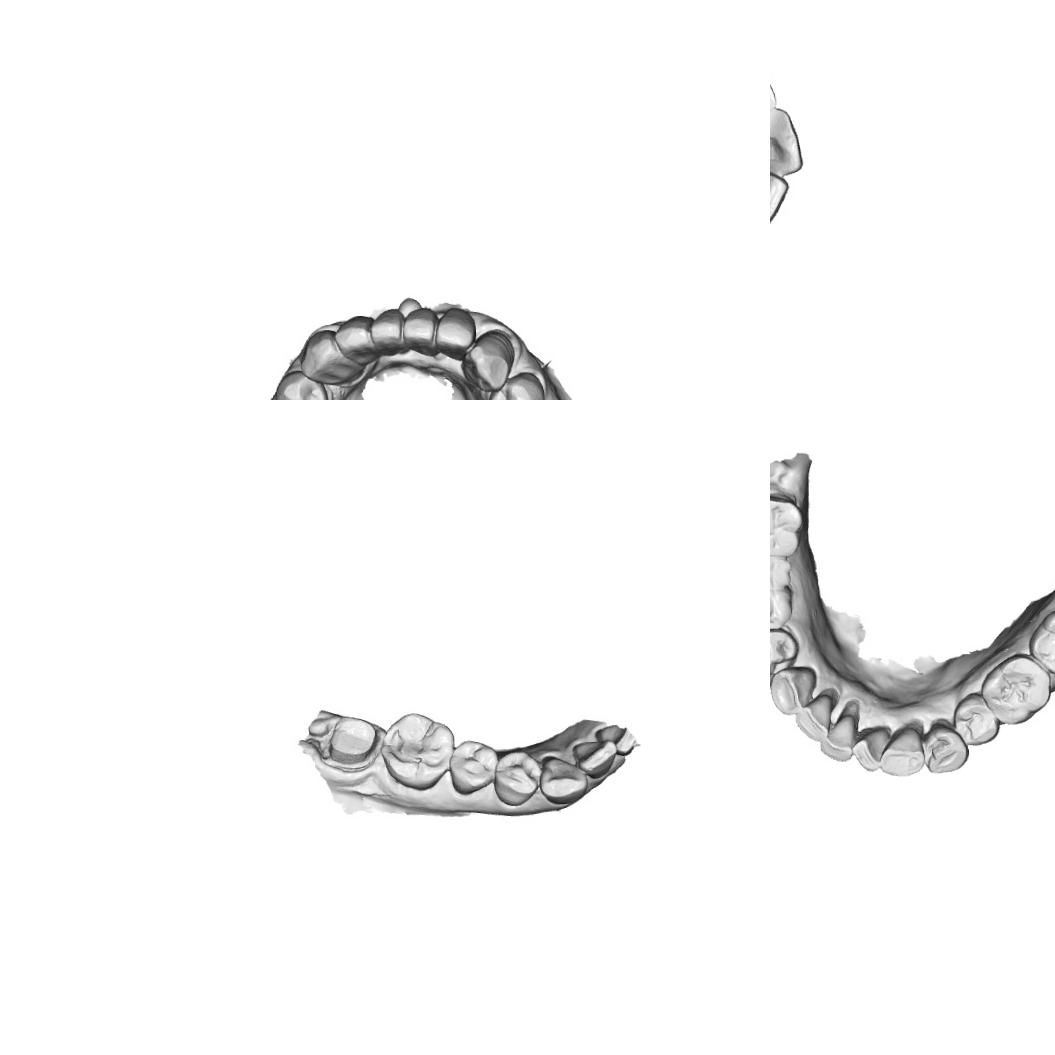canine: (458, 328, 516, 393), (296, 327, 352, 392), (877, 723, 926, 780), (538, 752, 589, 805), (770, 664, 818, 716)
crown: (317, 710, 380, 772)
incisor: (432, 305, 478, 359), (770, 105, 804, 176), (368, 305, 408, 361), (794, 693, 836, 743), (398, 307, 438, 359), (334, 314, 376, 361), (571, 739, 619, 780), (818, 712, 856, 762), (851, 726, 890, 773), (770, 167, 792, 237)
molar: (378, 709, 458, 792), (980, 651, 1052, 726), (770, 491, 801, 560), (1026, 605, 1055, 678), (770, 555, 793, 591)
premolar: (448, 738, 500, 796), (490, 748, 540, 808), (951, 690, 1002, 748), (922, 720, 970, 775), (272, 366, 332, 400), (486, 370, 546, 400), (770, 626, 800, 675), (770, 583, 794, 630)
